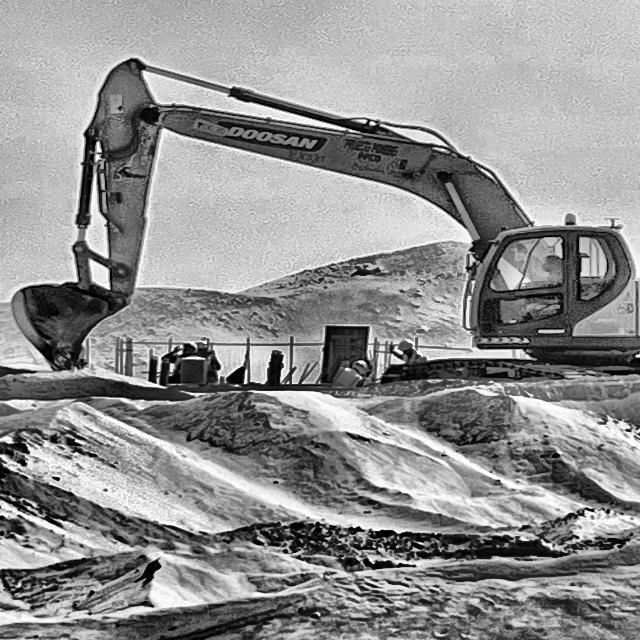excavator: (7, 51, 640, 418)
